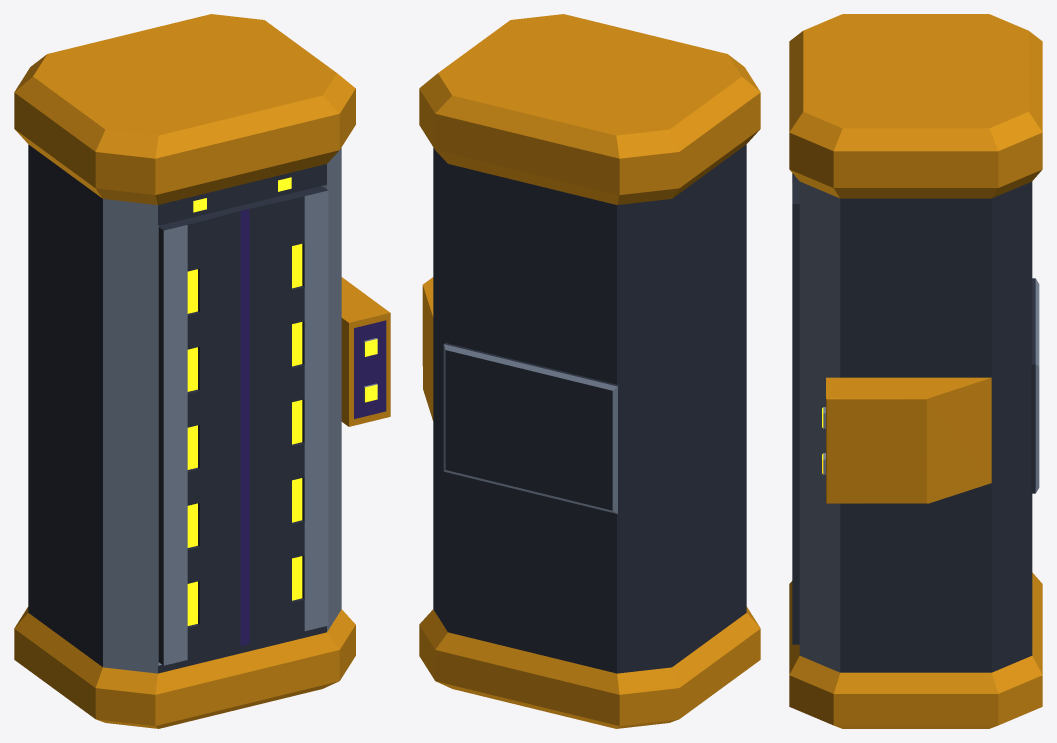
File: suit_storage_v3_uv.glb
3 views of the same model, side by side, from view 1: azimuth 30°, elevation 25°; view 2: azimuth 150°, elevation 25°; view 3: azimuth 270°, elevation 25° (orthographic).
Parts seen in each view (by area): view 1: Suit_Storage_Shell, Suit_Storage_Door; view 2: Suit_Storage_Shell, Suit_Storage_Service_Hatch; view 3: Suit_Storage_Shell, Suit_Storage_Door, Suit_Storage_Service_Hatch.
Boxes of the visible parts, bbox=[...] form: Suit_Storage_Shell: bbox=[14, 14, 390, 728]; Suit_Storage_Door: bbox=[158, 186, 328, 665]; Suit_Storage_Shell: bbox=[419, 14, 760, 728]; Suit_Storage_Service_Hatch: bbox=[443, 342, 619, 513]; Suit_Storage_Shell: bbox=[789, 14, 1042, 728]; Suit_Storage_Door: bbox=[792, 173, 799, 644]; Suit_Storage_Service_Hatch: bbox=[1031, 278, 1039, 493].
Bounding box in the file's own units: 1.17 × 2.28 × 0.872.
